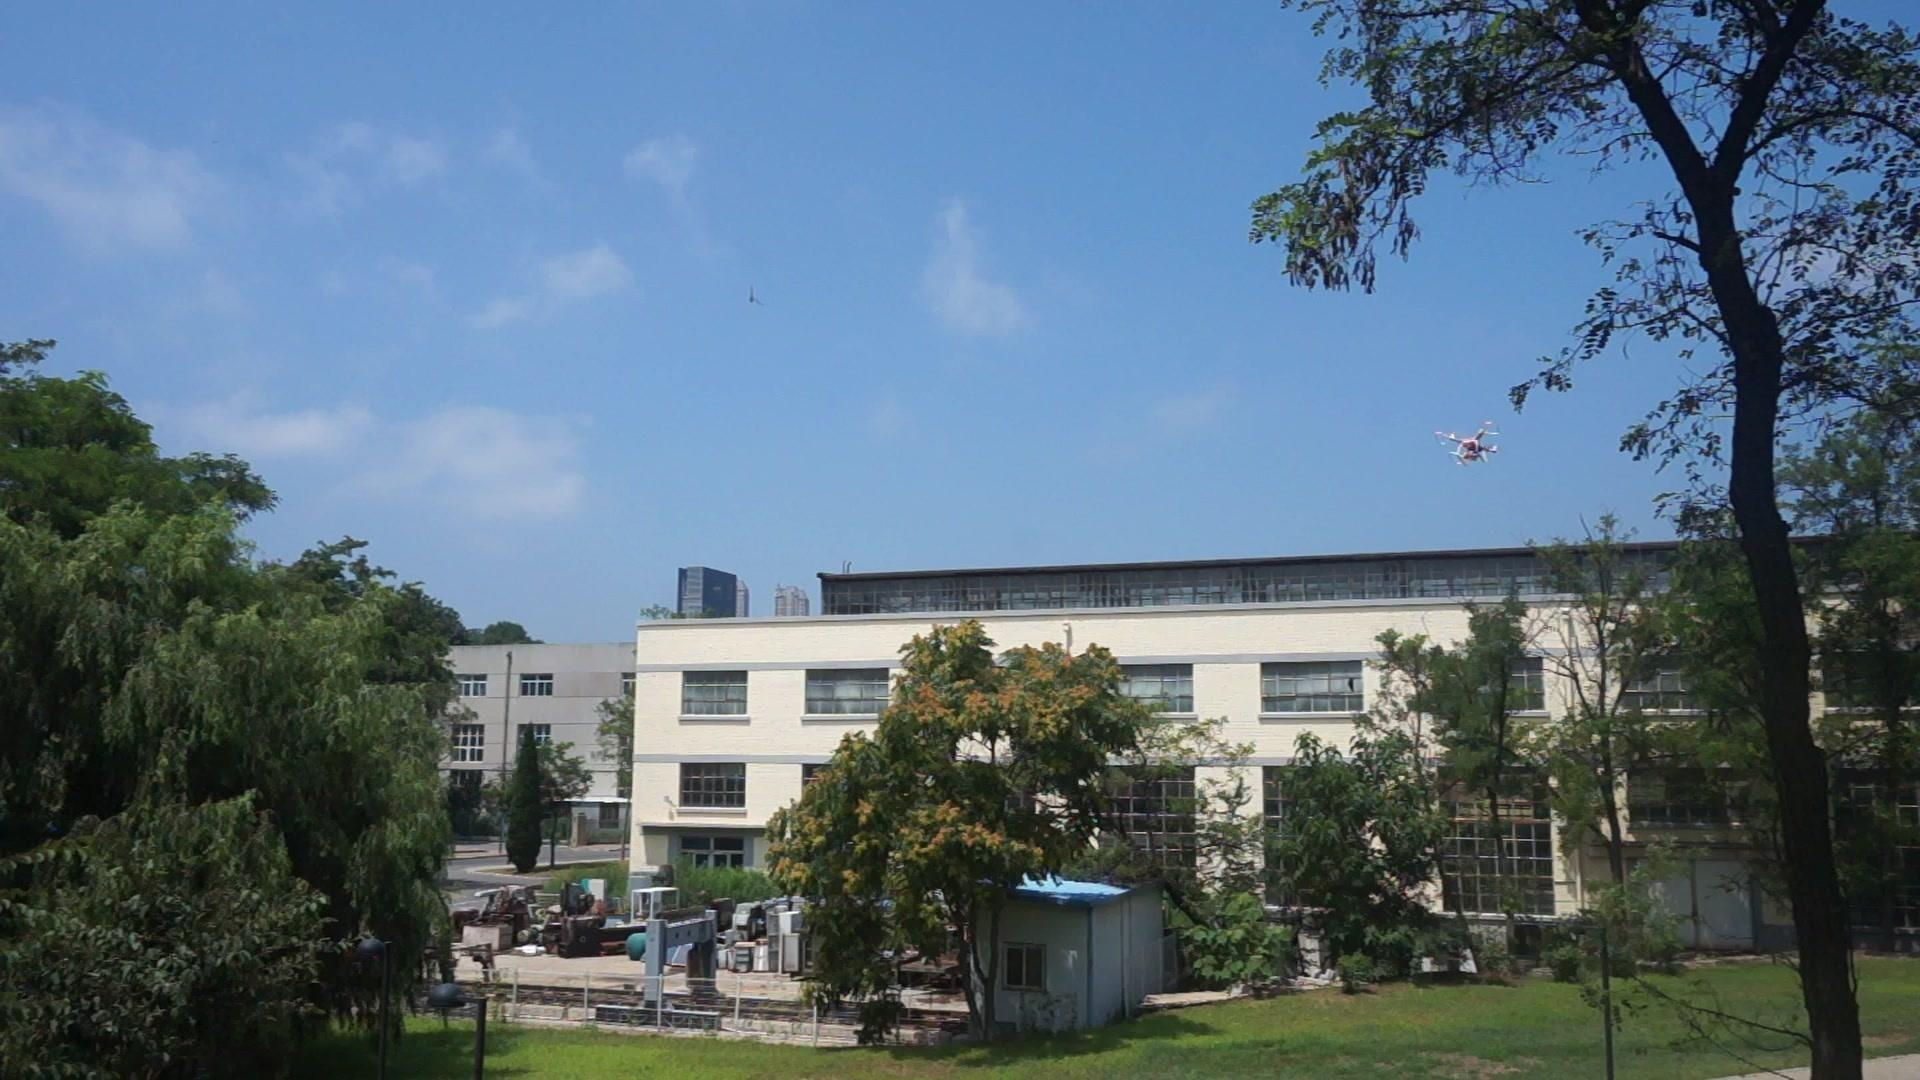UAV: (1436, 419, 1502, 467)
